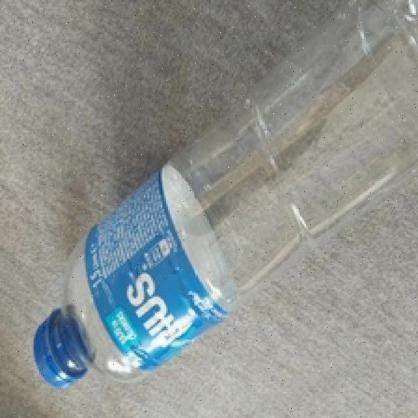bottle: (29, 0, 417, 392)
cap: (30, 325, 88, 393)
label: (81, 163, 227, 380)
